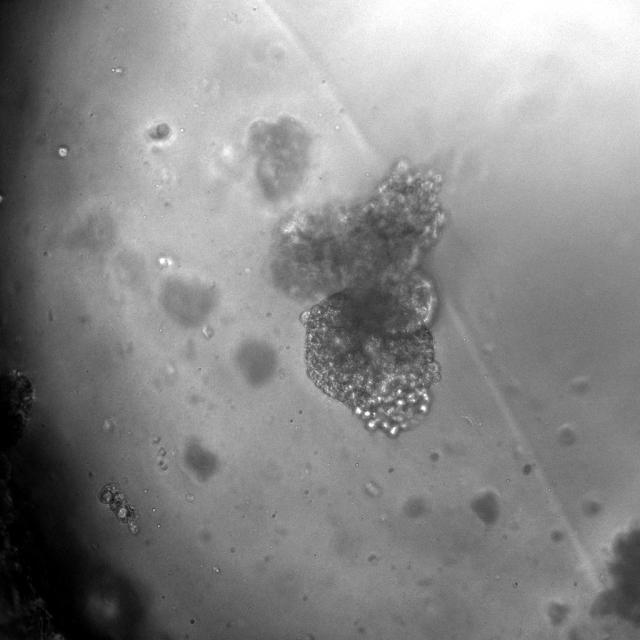organoid: (271, 162, 445, 436), (598, 527, 639, 626), (98, 483, 138, 532), (146, 121, 172, 142)
